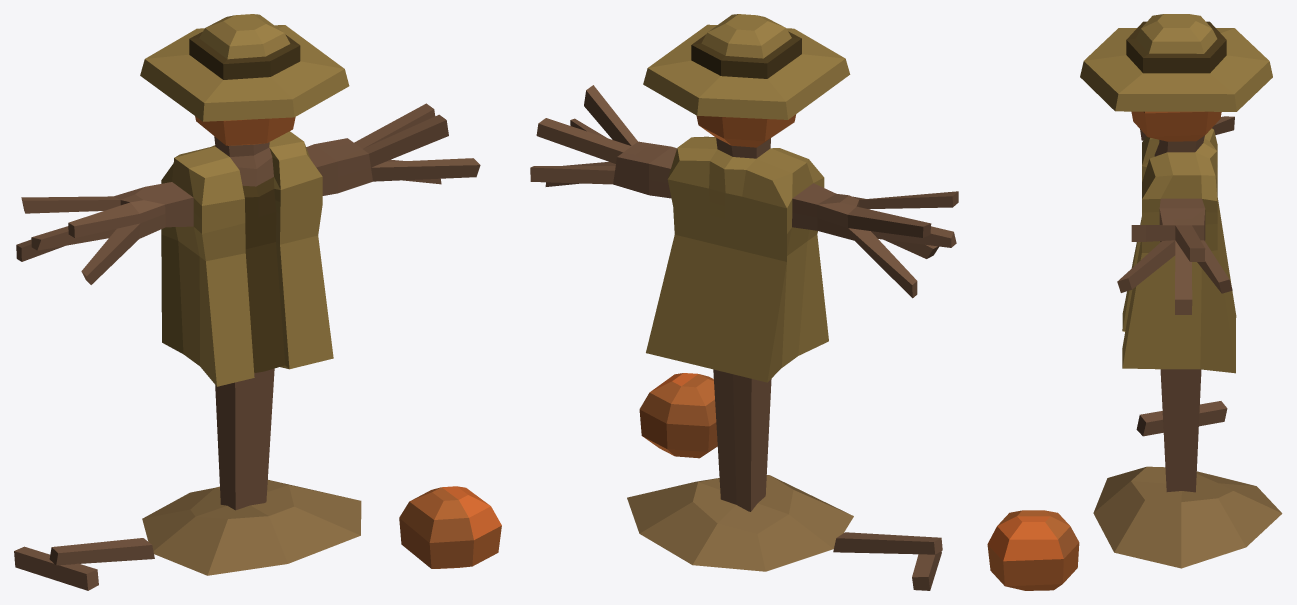
The model's file is C_Scarecrow_WithStuff.fbx.
The picture shows the model from 3 angles, left to right: view 1: azimuth 30°, elevation 25°; view 2: azimuth 150°, elevation 25°; view 3: azimuth 270°, elevation 25°; orthographic projection. The views are drawn at different scales.
Parts seen in each view (by area): view 1: Scarecrow_Colonist; view 2: Scarecrow_Colonist; view 3: Scarecrow_Colonist.
Part boxes in pixels (left/top/right/bottom): Scarecrow_Colonist: left=14, top=14, right=501, bottom=590; Scarecrow_Colonist: left=530, top=14, right=958, bottom=590; Scarecrow_Colonist: left=987, top=14, right=1282, bottom=590.
Bounding box in the file's own units: 119 × 142 × 76.13.
